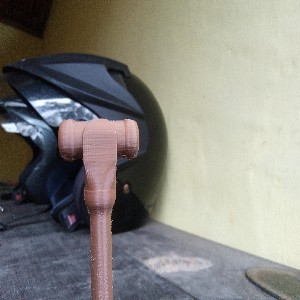palu: (57, 118, 140, 300)
